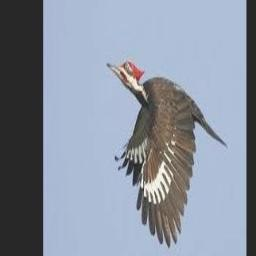Woodpecker: (107, 60, 227, 248)
